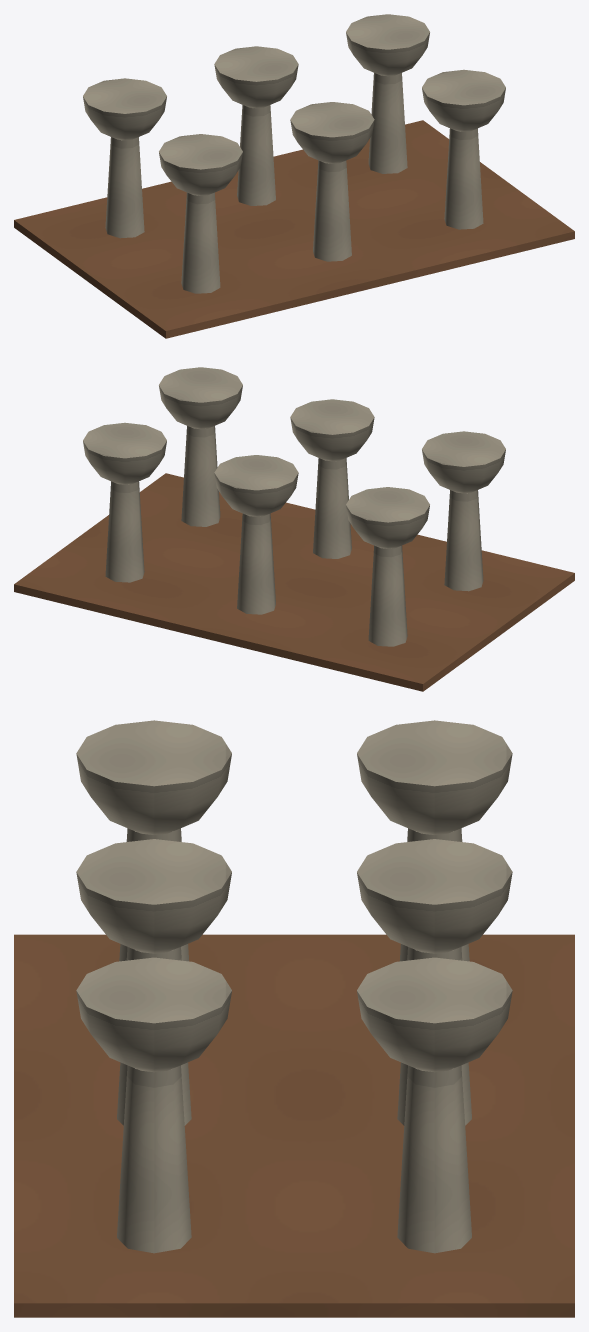
3 renders of one model, top to bottom at view 1: azimuth 30°, elevation 25°; view 2: azimuth 150°, elevation 25°; view 3: azimuth 270°, elevation 25°, orthographic. The views are drawn at different scales.
Parts seen in each view (by area): view 1: hagatna; view 2: hagatna; view 3: hagatna.
Part boxes in pixels (x1=…): hagatna: x1=14, y1=14, x2=574, y2=338; hagatna: x1=14, y1=367, x2=574, y2=691; hagatna: x1=14, y1=720, x2=574, y2=1317.
Bounding box in the file's own units: 5.6 × 1.85 × 3.6.
Materials: 1 (1 with a texture image).
